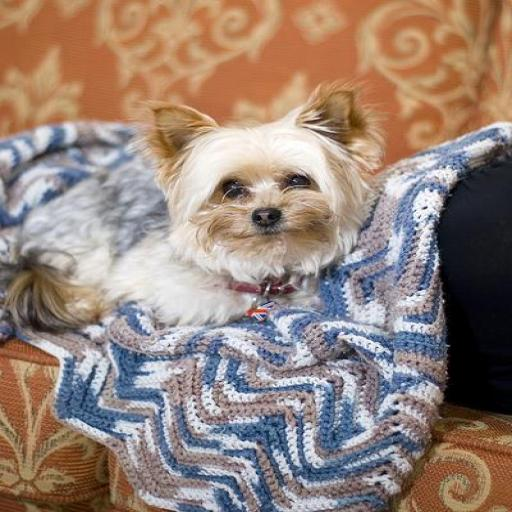dog_face: (142, 92, 362, 268)
